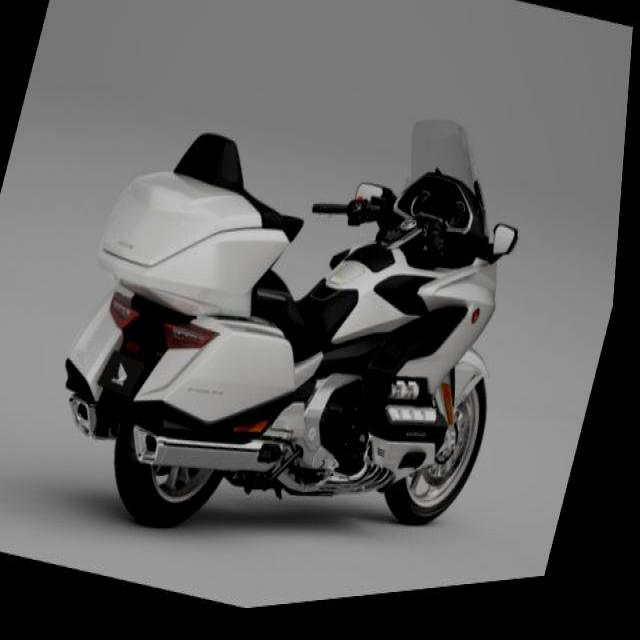Gold Wing: (30, 19, 568, 633)
